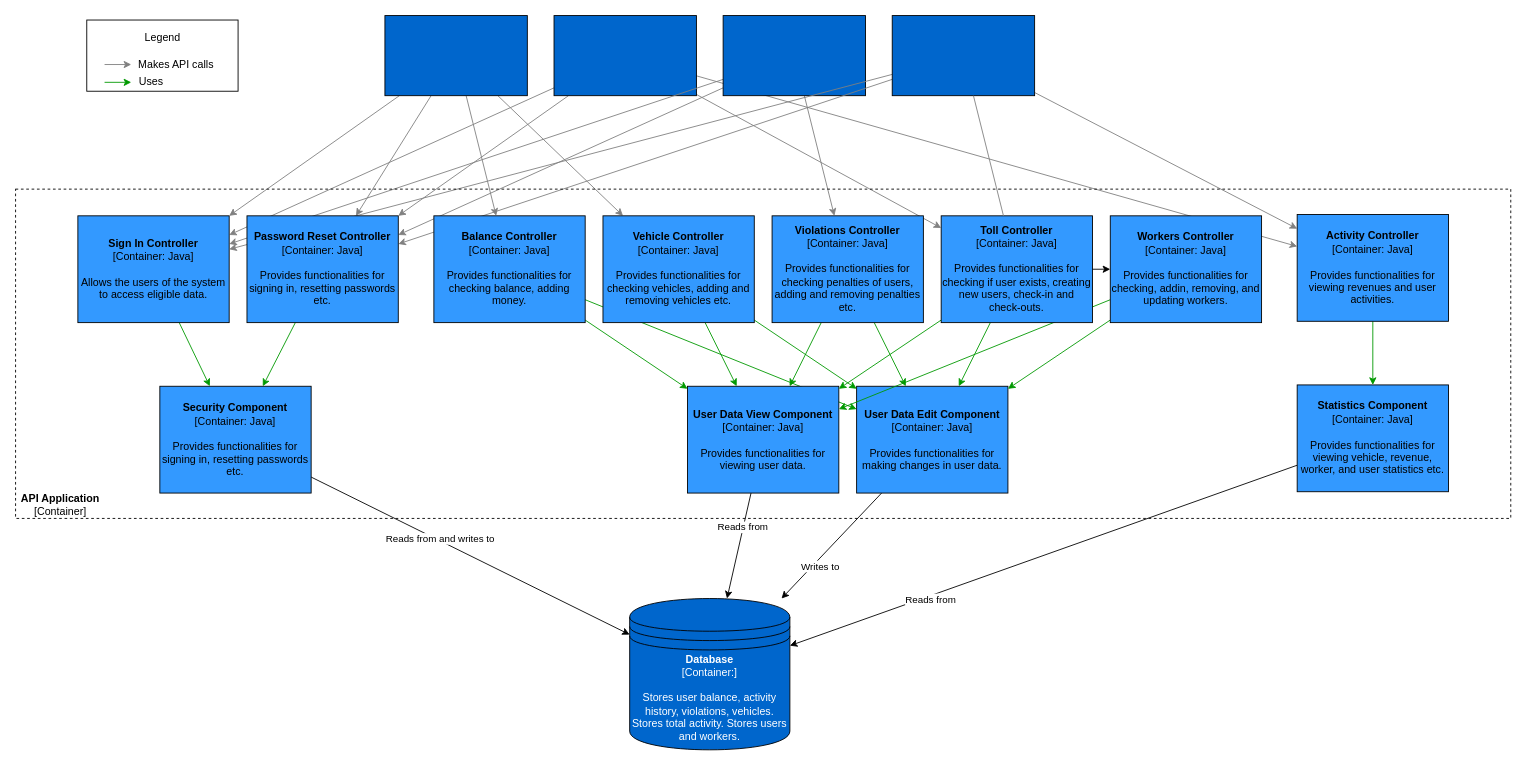
Image size: 1526x765. Some labels were removed from this diagram. The shapes that lost their labels are listed below. From the top down, each one's box as (x1, y1, x2, y2) in pixels, then its label:
(384, 15, 527, 96): User Side App [Container: Java] Provides user functionalities.
(553, 15, 696, 96): Booth Side App [Container: Java] Provides crew member functionalities.
(722, 15, 866, 96): Officer Side App [Container: Java] Provides officer functionalities.
(891, 15, 1035, 96): Admin Side App [Container: Java] Provides admin functionalities.
